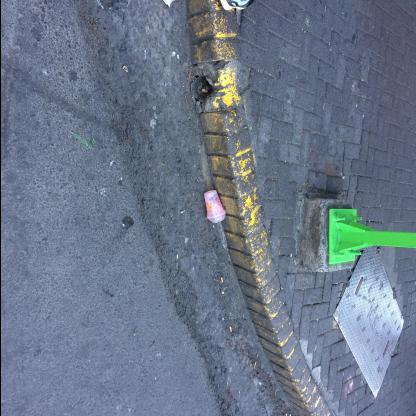plastik: (204, 191, 227, 225)
